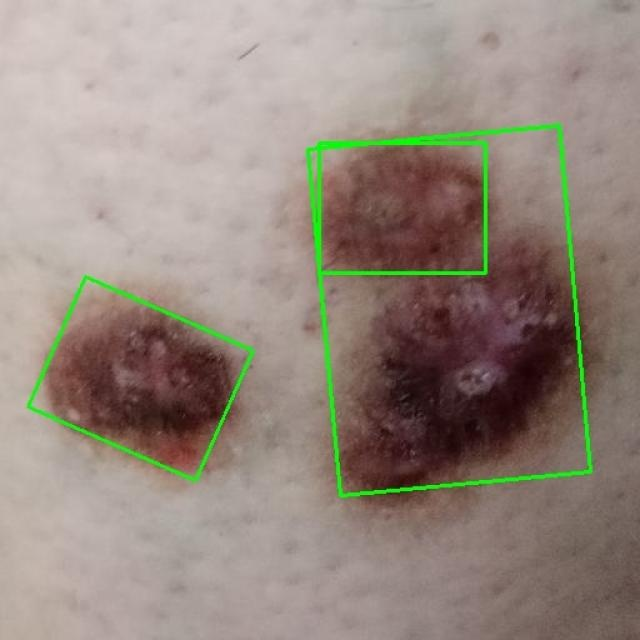Eczema: (309, 126, 591, 495), (28, 277, 253, 481), (319, 142, 485, 272)
